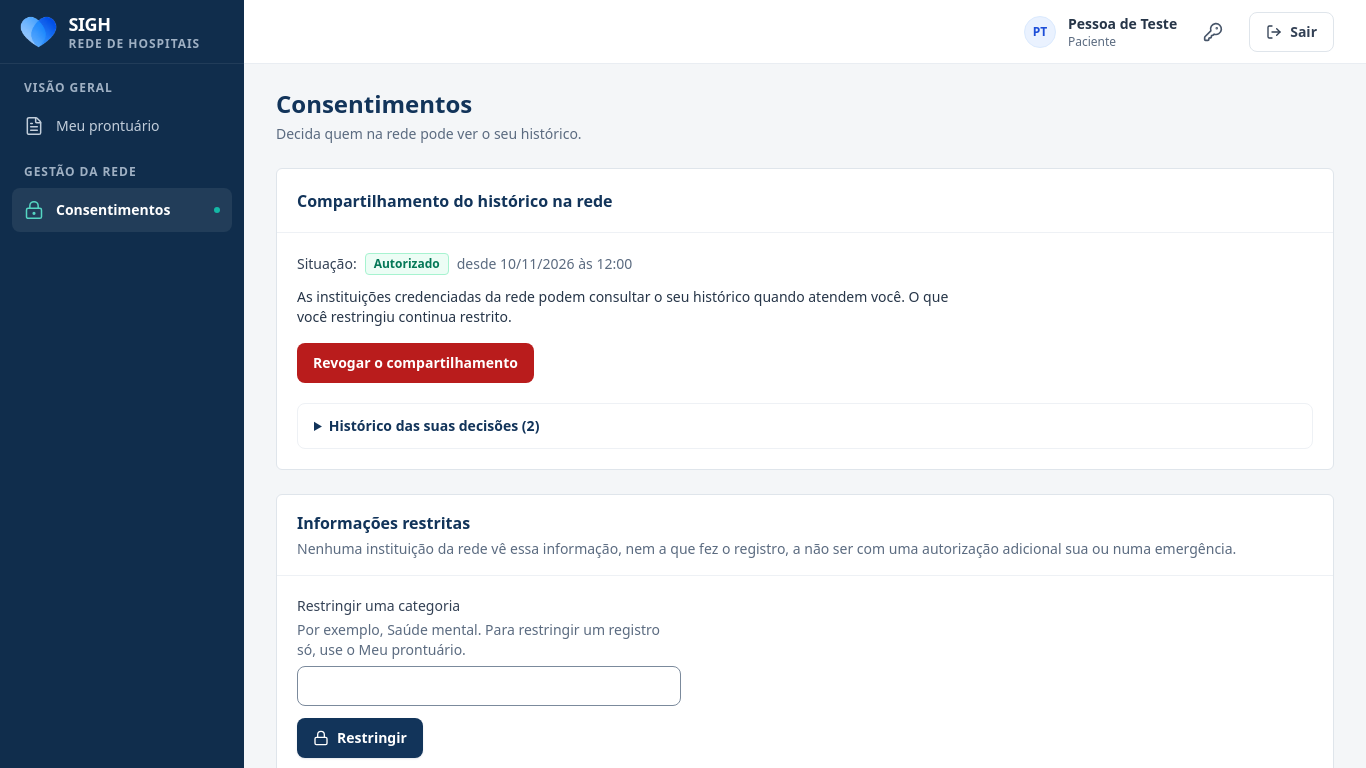
Test: FE-05: Consentimentos — compartilhamento na rede (RF-002, RN-007) › o histórico das decisões vem da mais recente para a mais antiga
expect the heading "Consentimentos" is shown: met, box [276, 87, 472, 120]
What coordinates should you click on to do the following:
click the heading "Histórico das suas decisões (2)"
I would click on:
 (434, 426)
Its box is [329, 416, 539, 435].
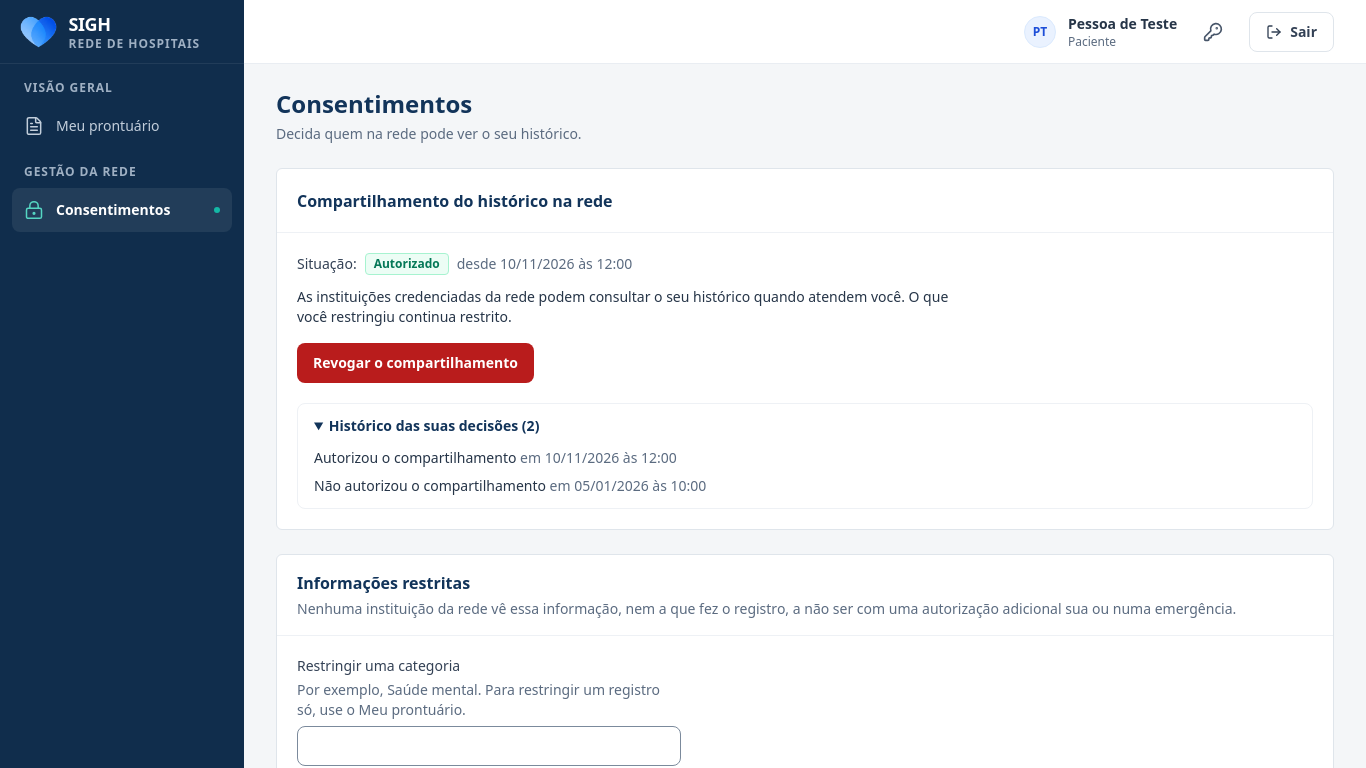
expect the list items read "Autorizou o compartilhamento em 10/11/2026 às 12:00", "Não autorizou o compartilhamento em 05/01/2026 às 10:00", in this order: met, box [314, 448, 677, 467]; [314, 476, 706, 495]
